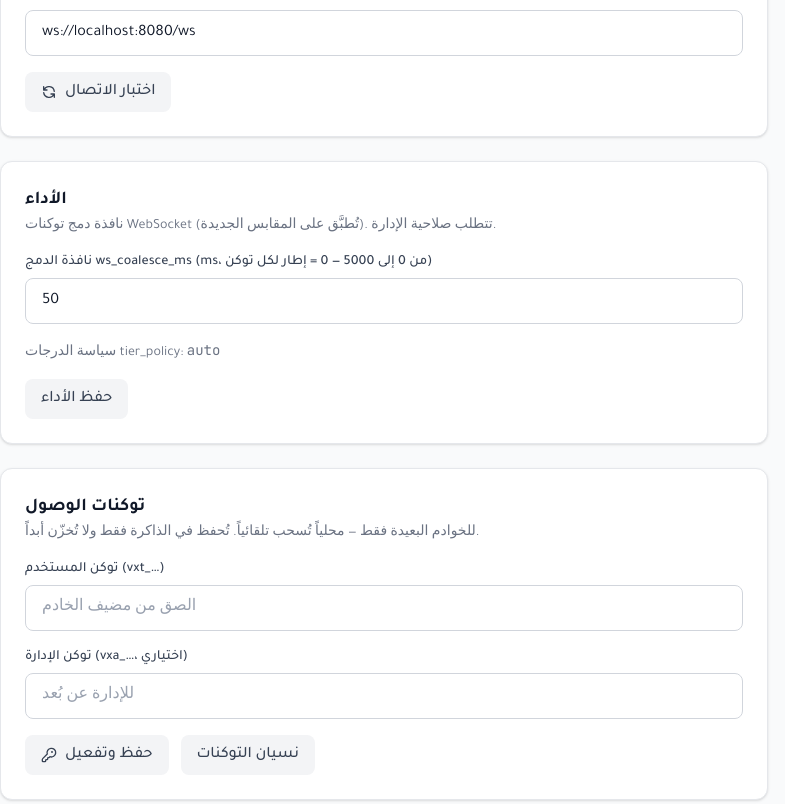
Test: SettingsTab › performance save surfaces backend errors
This screenshot has width=785, height=804.
(page scrolled)
Expected: the text "auto" is shown, [187,341,220,359]
Click the button "حفظ الأداء": (77, 399) [25,379,128,419]
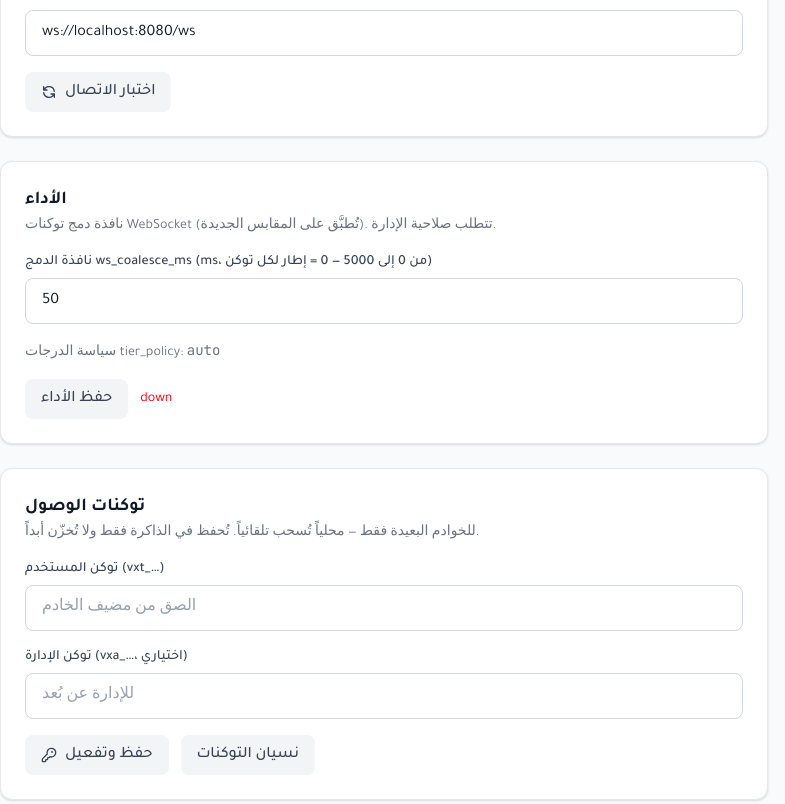
Result: the text "down" is shown at [140,389,172,409]
